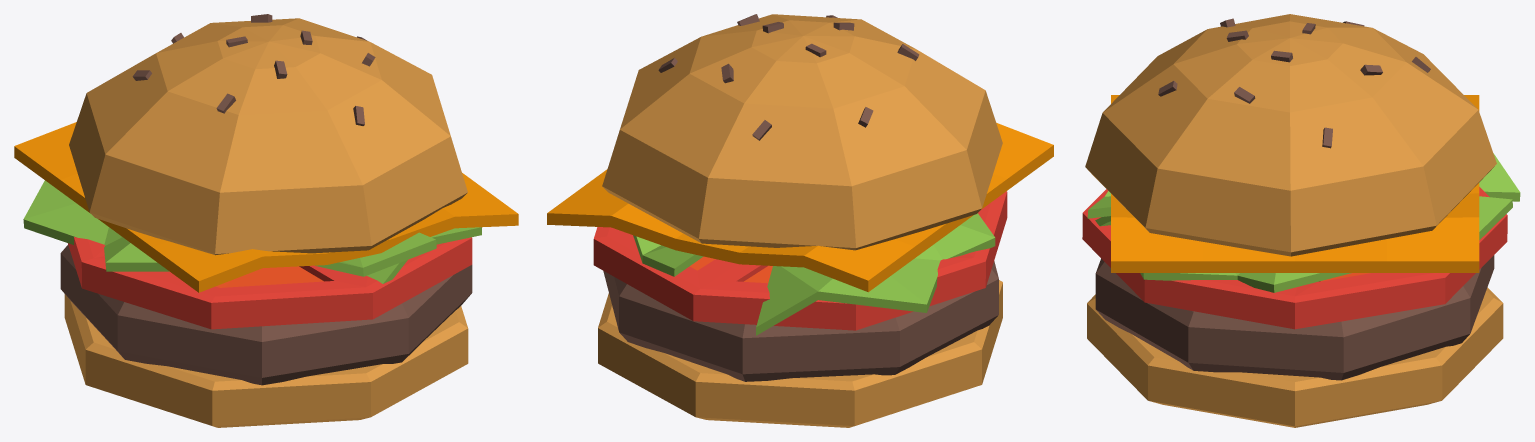
File: cheeseburger.obj
3 views of the same model, side by side, from view 1: azimuth 30°, elevation 25°; view 2: azimuth 150°, elevation 25°; view 3: azimuth 270°, elevation 25° (orthographic).
Visible parts, largest first — view 1: Circle.003_Circle.004; view 2: Circle.003_Circle.004; view 3: Circle.003_Circle.004.
Part boxes in pixels (bbox=[...]): Circle.003_Circle.004: bbox=[14, 14, 518, 427]; Circle.003_Circle.004: bbox=[547, 14, 1053, 427]; Circle.003_Circle.004: bbox=[1082, 14, 1520, 427].
Size of the model in its own units: 12.36 by 10.03 by 12.73.
